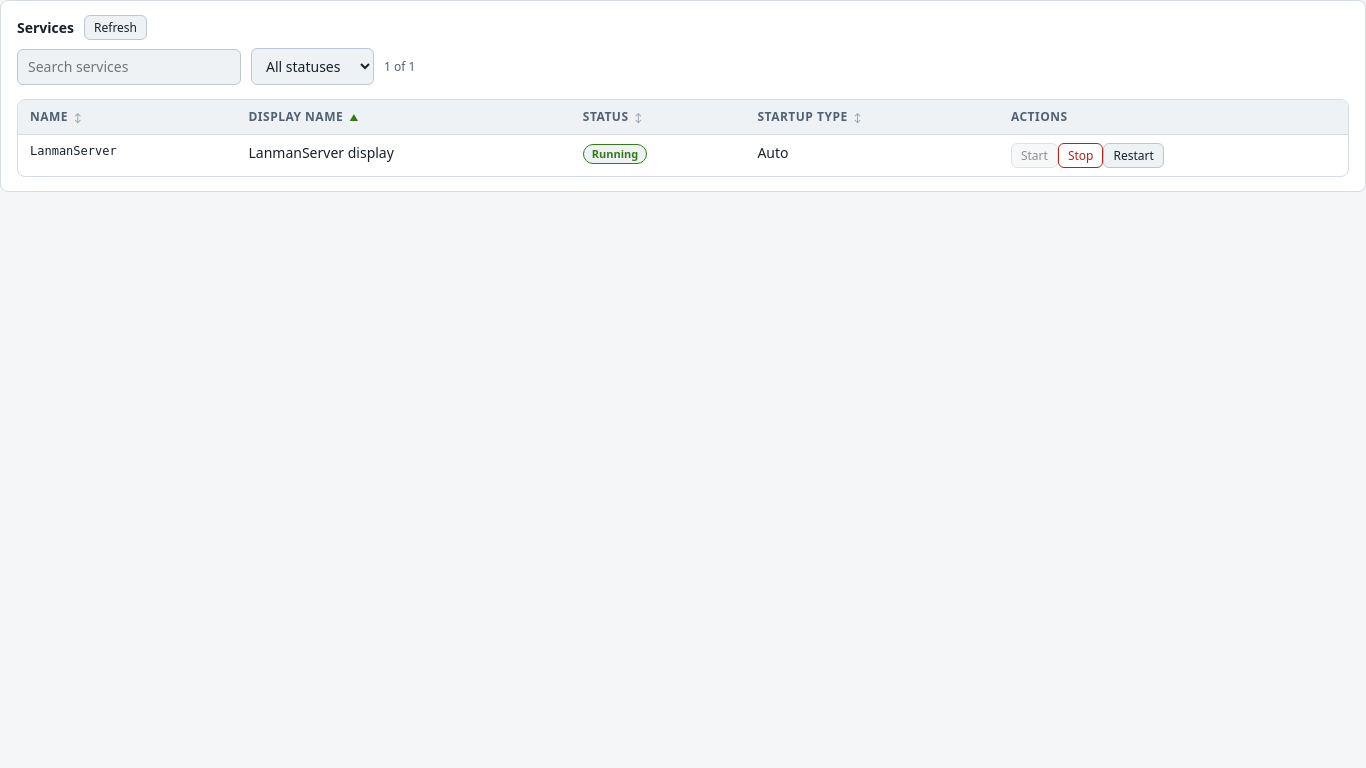
dependents flow › Restart uses the same check; a protected dependent blocks the action completely
This screenshot has width=1366, height=768.
Click the button "Restart".
click(1134, 156)  # box x1=1103 y1=143 x2=1164 y2=168
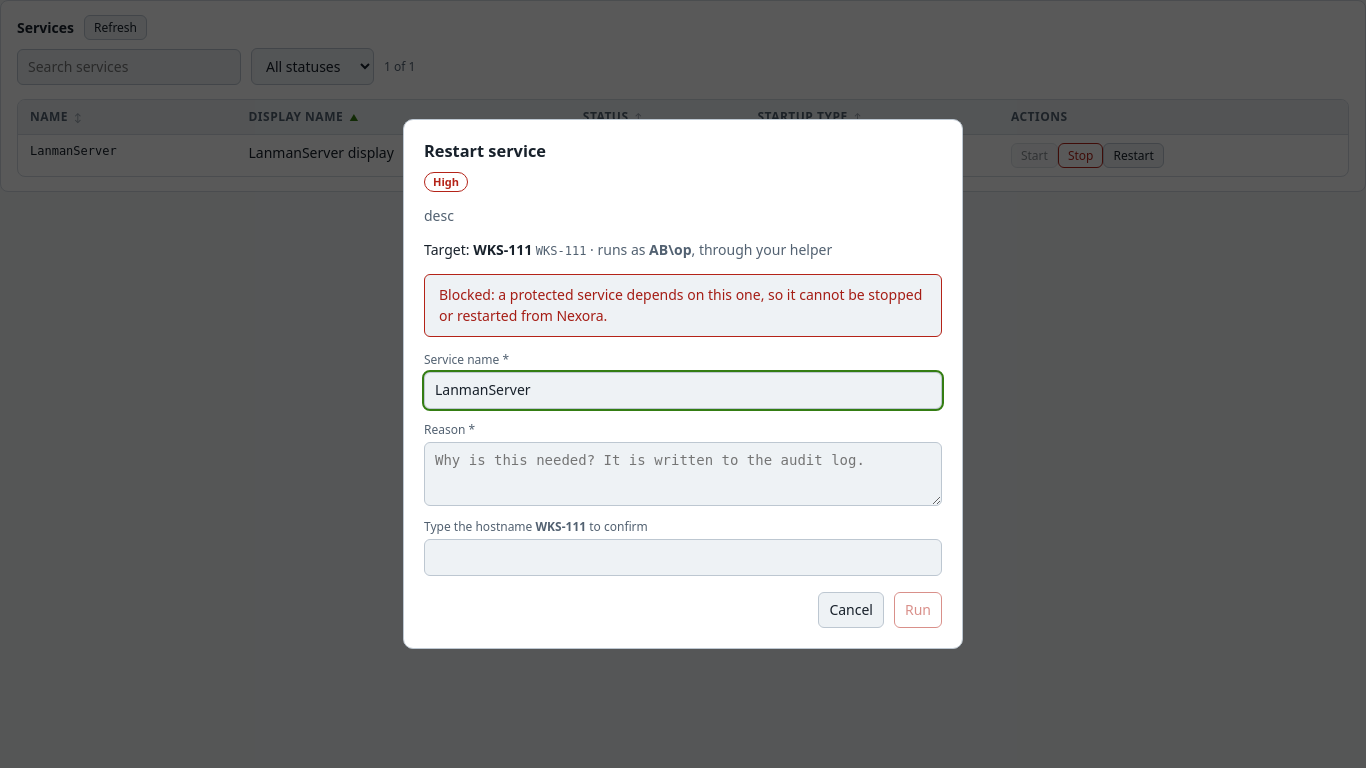
Expected: the text "protected service depends on this one" is shown, x1=439 y1=285 x2=922 y2=325
Expected: the button "Run" is disabled, x1=894 y1=592 x2=942 y2=628
